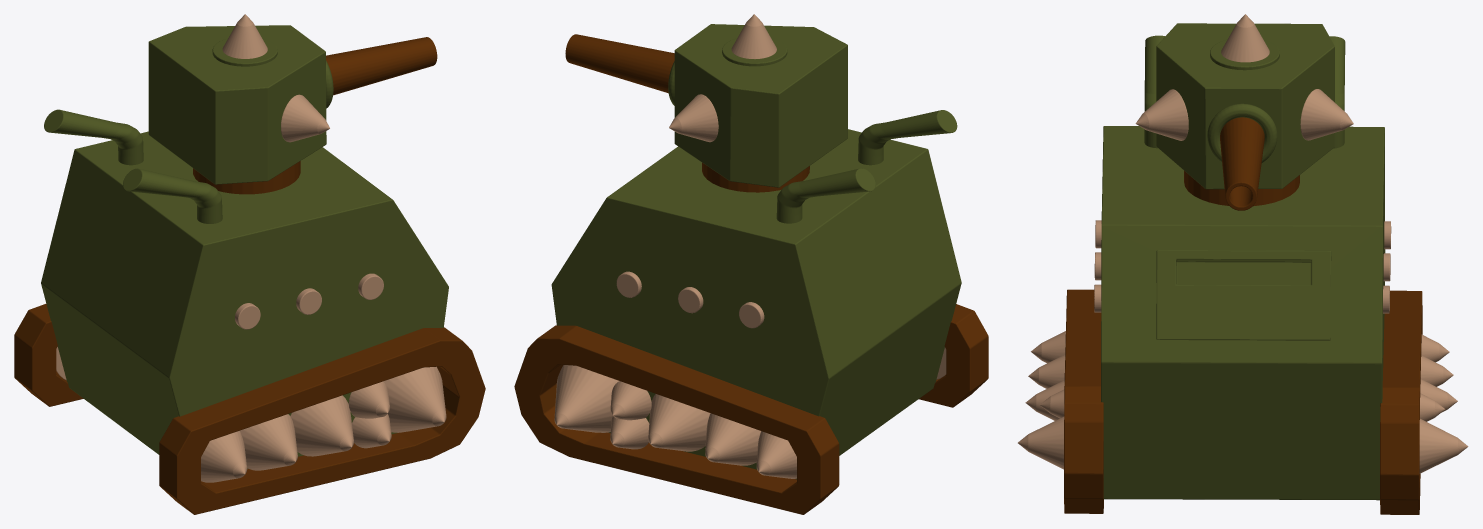
The model's file is tankie.fbx.
3 views of the same model, side by side, from view 1: azimuth 30°, elevation 25°; view 2: azimuth 150°, elevation 25°; view 3: azimuth 270°, elevation 25° (orthographic). The views are drawn at different scales.
Visible parts, largest first — view 1: Cube.005; view 2: Cube.005; view 3: Cube.005.
Part boxes in pixels (x1,y1,x2,y2): Cube.005: (14, 14, 485, 514); Cube.005: (514, 14, 988, 514); Cube.005: (1018, 14, 1468, 514).
Size of the model in its own units: 3.03 by 3.44 by 3.21.
